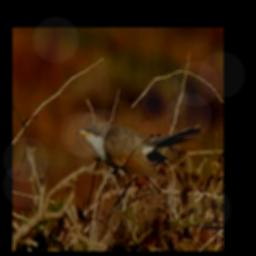Cuckoo: (74, 122, 201, 176)
